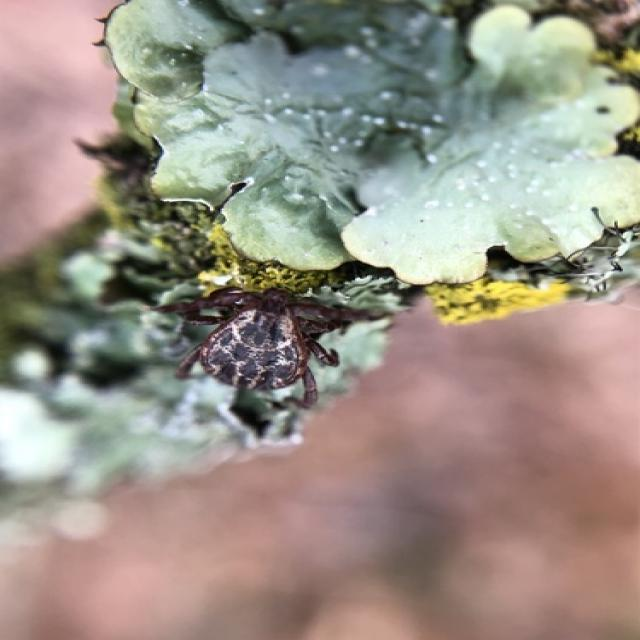Dermacentor Reticulatus-M: (148, 287, 379, 410)
